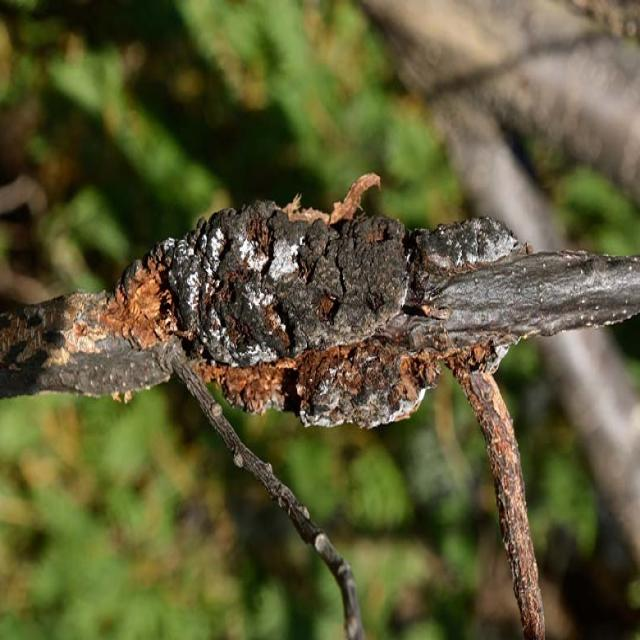Black_knot: (165, 194, 410, 370)
